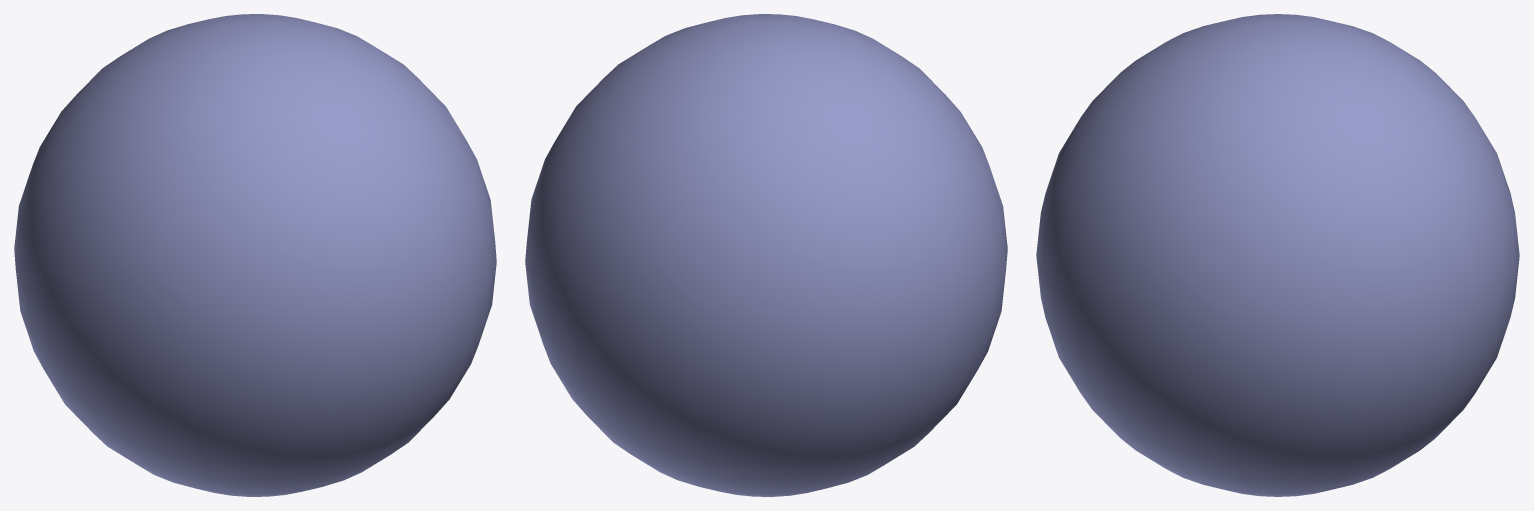
File: debrisb1.fbx
The picture shows the model from 3 angles, left to right: view 1: azimuth 30°, elevation 25°; view 2: azimuth 150°, elevation 25°; view 3: azimuth 270°, elevation 25°; orthographic projection.
Parts seen in each view (by area): view 1: Sphere01; view 2: Sphere01; view 3: Sphere01.
Part boxes in pixels (left/top/right/bottom): Sphere01: left=14, top=14, right=496, bottom=496; Sphere01: left=525, top=14, right=1007, bottom=496; Sphere01: left=1036, top=14, right=1519, bottom=496.
Bounding box in the file's own units: 1323 × 1323 × 1323.
